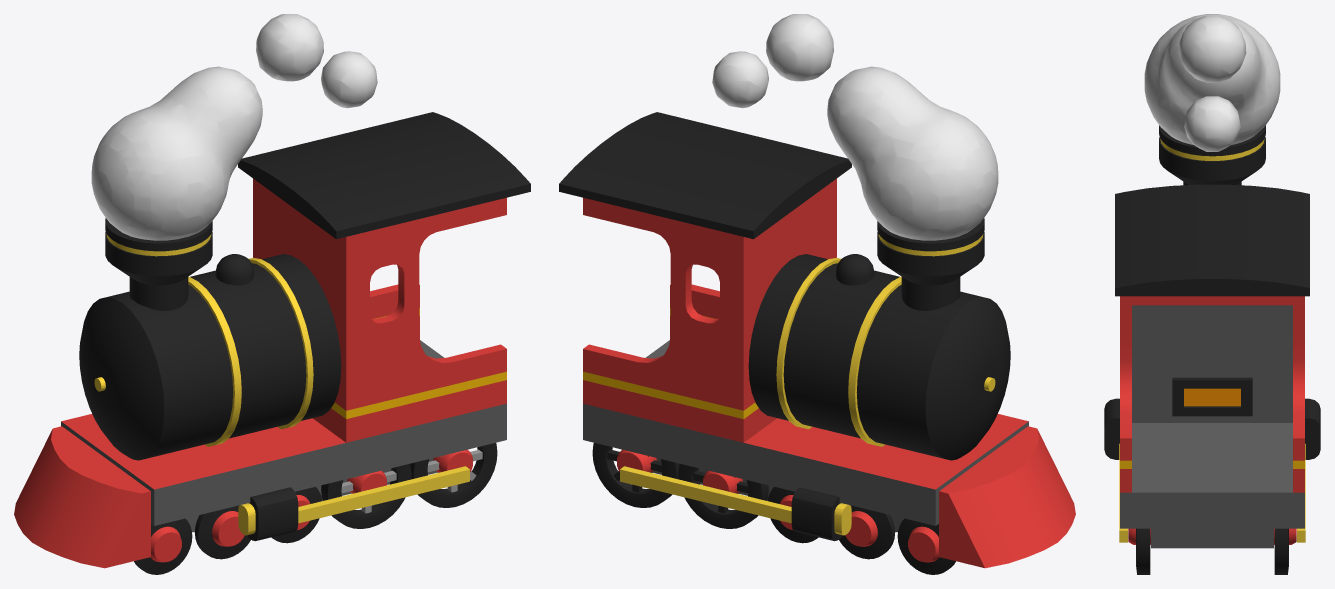
Rendered from locomotive.gltf.
3 renders of one model, left to right at view 1: azimuth 30°, elevation 25°; view 2: azimuth 150°, elevation 25°; view 3: azimuth 270°, elevation 25°, orthographic.
Parts seen in each view (by area): view 1: Cube.554, Mball.005; view 2: Cube.554, Mball.005; view 3: Cube.554, Mball.005.
Boxes of the visible parts, <box> form: Cube.554: <box>14,112,530,574</box>; Mball.005: <box>91,14,377,240</box>; Cube.554: <box>559,112,1075,574</box>; Mball.005: <box>712,14,998,240</box>; Cube.554: <box>1104,125,1320,574</box>; Mball.005: <box>1144,14,1280,151</box>.
Bounding box in the file's own units: 2.21 × 2.31 × 0.9262.
Materials: 1 (1 with a texture image).
